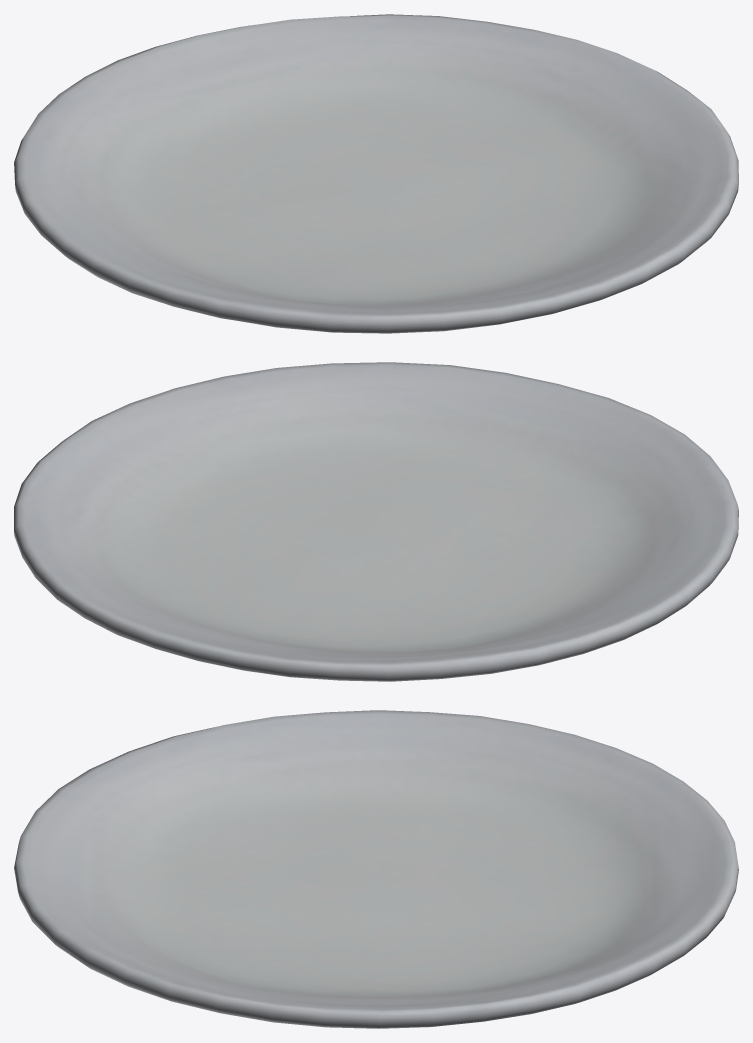
File: white_platter.fbx
The picture shows the model from 3 angles, top to bottom: view 1: azimuth 30°, elevation 25°; view 2: azimuth 150°, elevation 25°; view 3: azimuth 270°, elevation 25°; orthographic projection.
Visible parts, largest first — view 1: mesh; view 2: mesh; view 3: mesh.
Boxes of the visible parts, x1,y1,x2,y2 form: mesh: (14, 14, 738, 333); mesh: (14, 362, 738, 681); mesh: (14, 710, 738, 1028).
Bounding box in the file's own units: 99.89 × 8.47 × 99.93.
